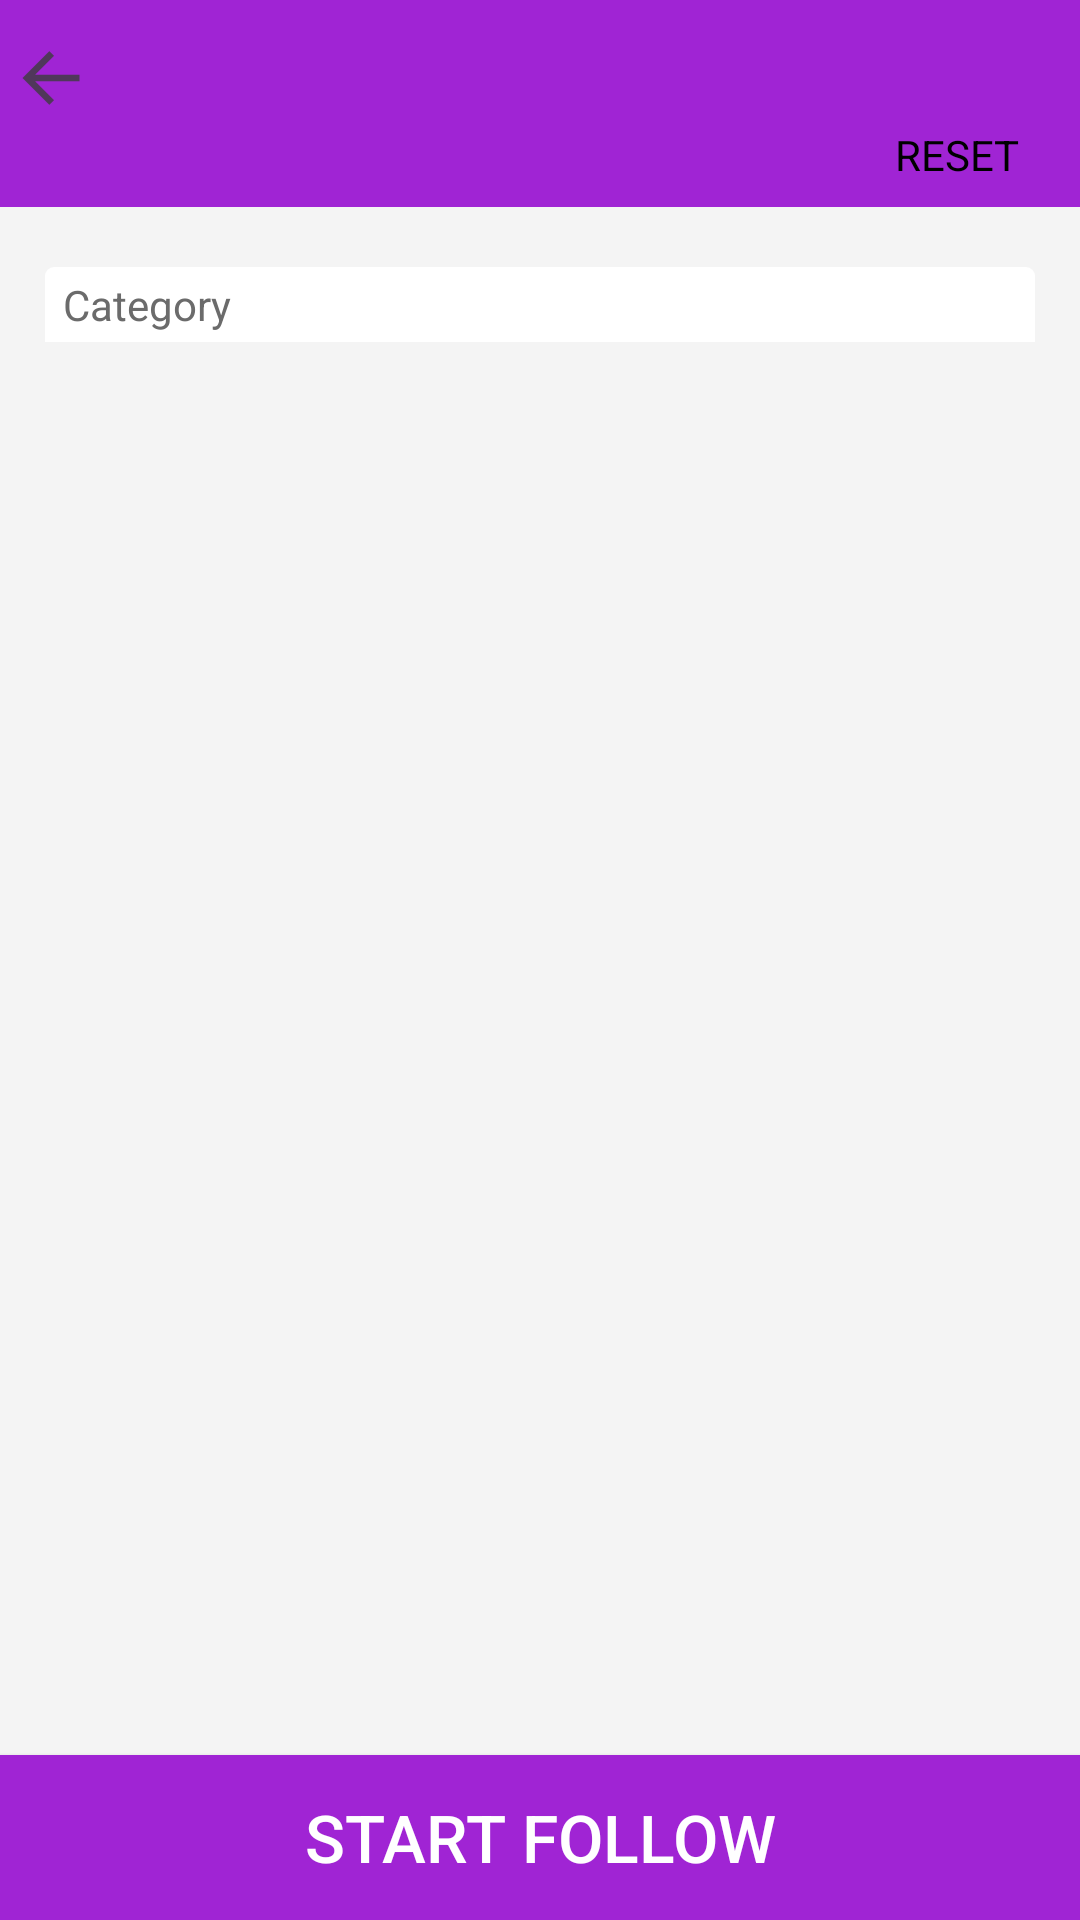

Named icons in this screenshot (1080x1920) and their bounding boxes, (x1, y1, x2, y2):
back: (23, 51, 80, 105)
